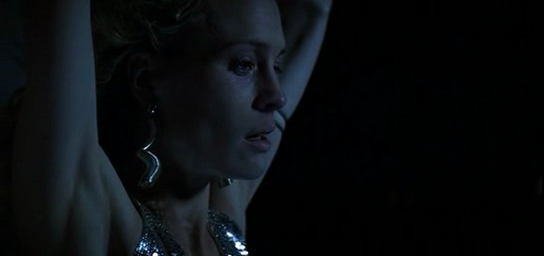cu: (1, 1, 544, 256)
face: (198, 8, 289, 181)
person: (1, 1, 332, 256)
